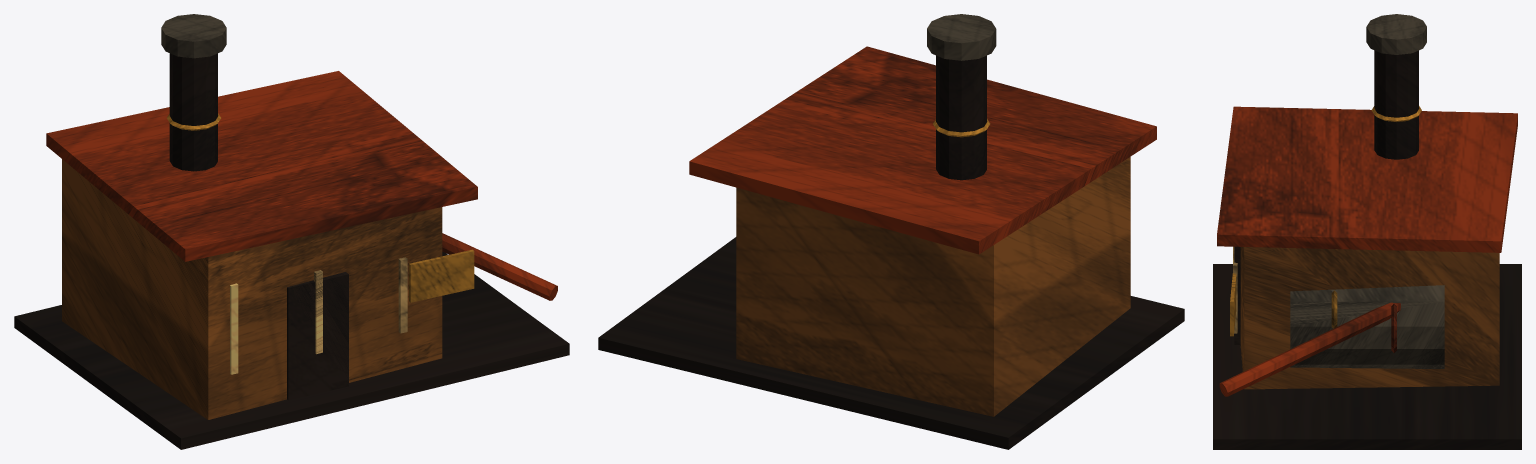
Rendered from south-boiler-site.glb.
3 views of the same model, side by side, from view 1: azimuth 30°, elevation 25°; view 2: azimuth 150°, elevation 25°; view 3: azimuth 270°, elevation 25° (orthographic). The views are drawn at different scales.
Visible parts, largest first — view 1: south-boiler-site; view 2: south-boiler-site; view 3: south-boiler-site.
Part boxes in pixels (box(x1,y1,x2,y2)): south-boiler-site: box(14, 14, 569, 449); south-boiler-site: box(598, 14, 1184, 449); south-boiler-site: box(1213, 14, 1521, 449).
Bounding box in the file's own units: 7.8 × 6.18 × 5.8.
1 material, 1 textured.
